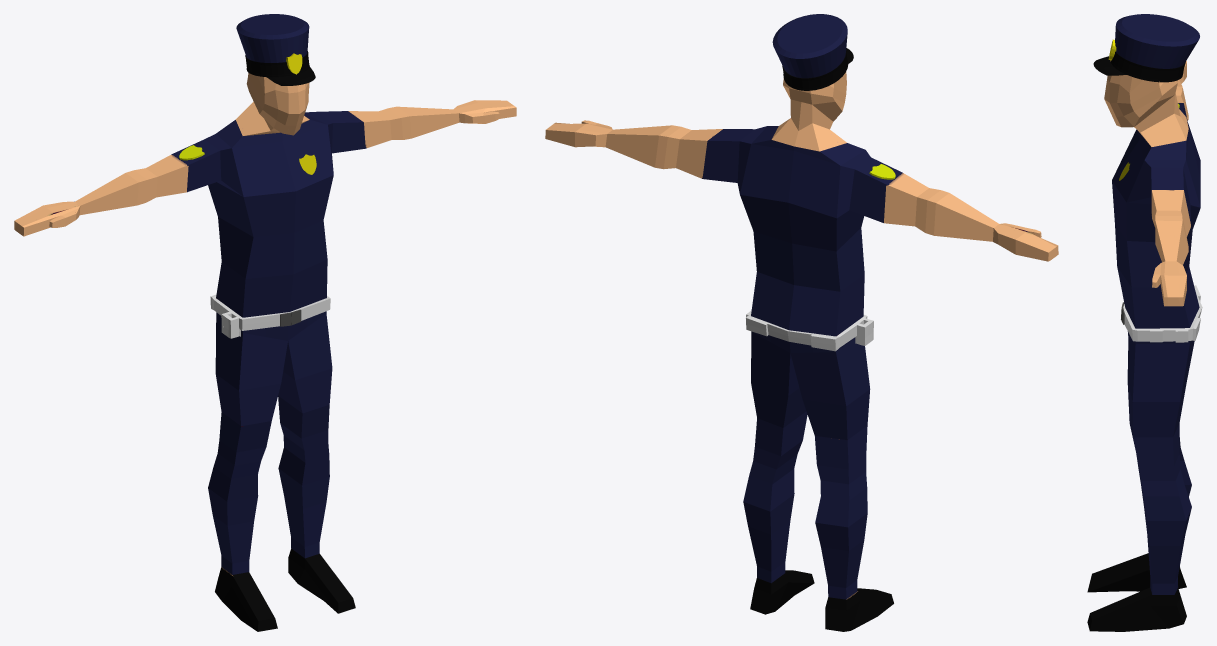
The model's file is man.fbx.
3 renders of one model, left to right at view 1: azimuth 30°, elevation 25°; view 2: azimuth 150°, elevation 25°; view 3: azimuth 270°, elevation 25°, orthographic. The views are drawn at different scales.
Visible parts, largest first — view 1: Cube, Plane.003, Cube.001, Plane.001; view 2: Cube, Plane.003, Cube.001, Plane.001; view 3: Cube, Plane.003, Plane.001, Cube.001.
Boxes of the visible parts, box(x1,y1,x2,y2) form: Cube: box(14, 73, 516, 631); Plane.003: box(236, 14, 309, 62); Cube.001: box(210, 294, 330, 338); Plane.001: box(245, 51, 315, 85); Cube: box(545, 71, 1058, 631); Plane.003: box(772, 14, 847, 78); Cube.001: box(746, 310, 873, 351); Plane.001: box(782, 48, 853, 90); Cube: box(1087, 60, 1200, 631); Plane.003: box(1115, 14, 1199, 68); Plane.001: box(1093, 51, 1185, 82); Cube.001: box(1123, 285, 1202, 342).
Bounding box in the file's own units: 573 × 639 × 114.
